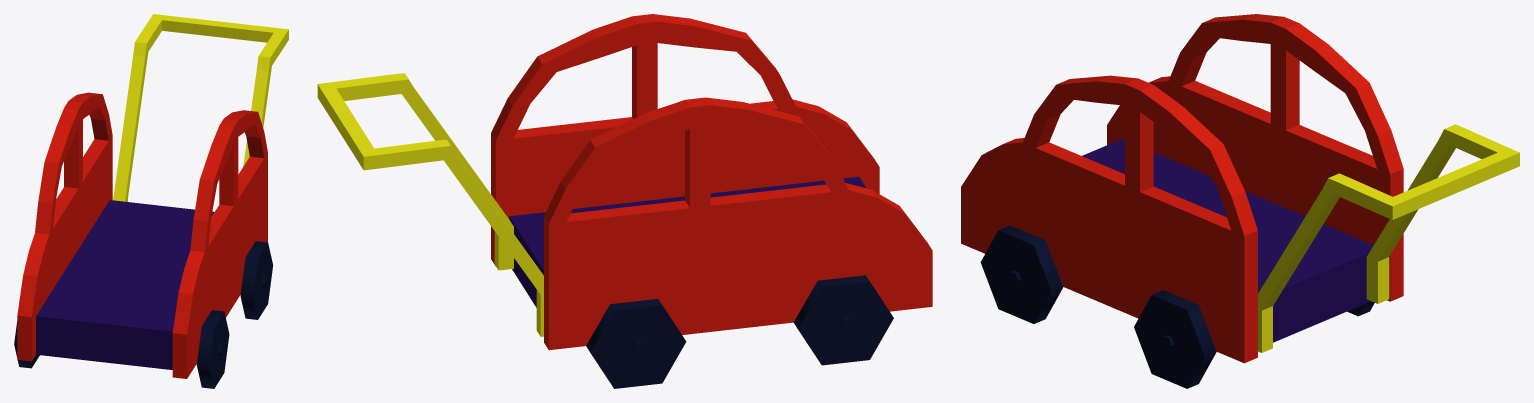
The model's file is Bedroom_Pushcar.FBX.
3 views of the same model, side by side, from view 1: azimuth 30°, elevation 25°; view 2: azimuth 150°, elevation 25°; view 3: azimuth 270°, elevation 25° (orthographic). The views are drawn at different scales.
Visible parts, largest first — view 1: Pushcar; view 2: Pushcar; view 3: Pushcar.
Part boxes in pixels (x1,y1,x2,y2): Pushcar: (14,14,288,388); Pushcar: (317,14,932,388); Pushcar: (961,14,1519,388).
Bounding box in the file's own units: 32.28 × 17.08 × 32.26.
